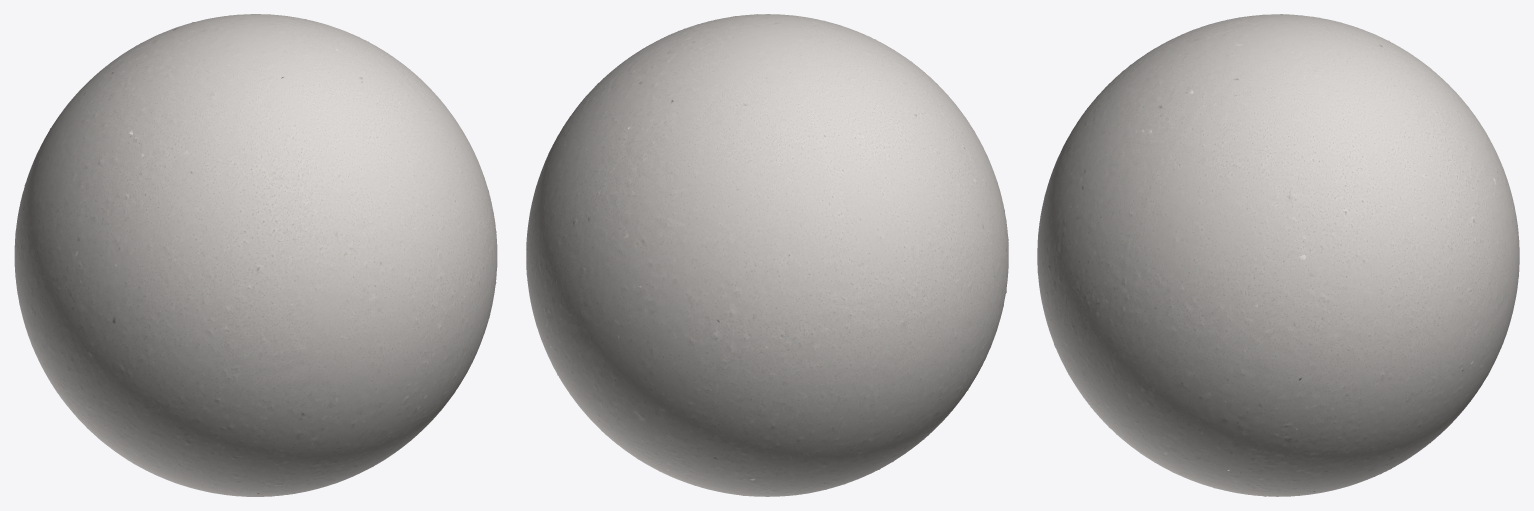
File: white_stucco_2k.gltf
The picture shows the model from 3 angles, left to right: view 1: azimuth 30°, elevation 25°; view 2: azimuth 150°, elevation 25°; view 3: azimuth 270°, elevation 25°; orthographic projection.
Visible parts, largest first — view 1: sphere_gltf; view 2: sphere_gltf; view 3: sphere_gltf.
Boxes of the visible parts, x1,y1,x2,y2 form: sphere_gltf: [14, 14, 497, 496]; sphere_gltf: [526, 14, 1008, 496]; sphere_gltf: [1037, 14, 1519, 496].
Size of the model in its own units: 2 by 2 by 2.
Materials: 1 (1 with a texture image).
